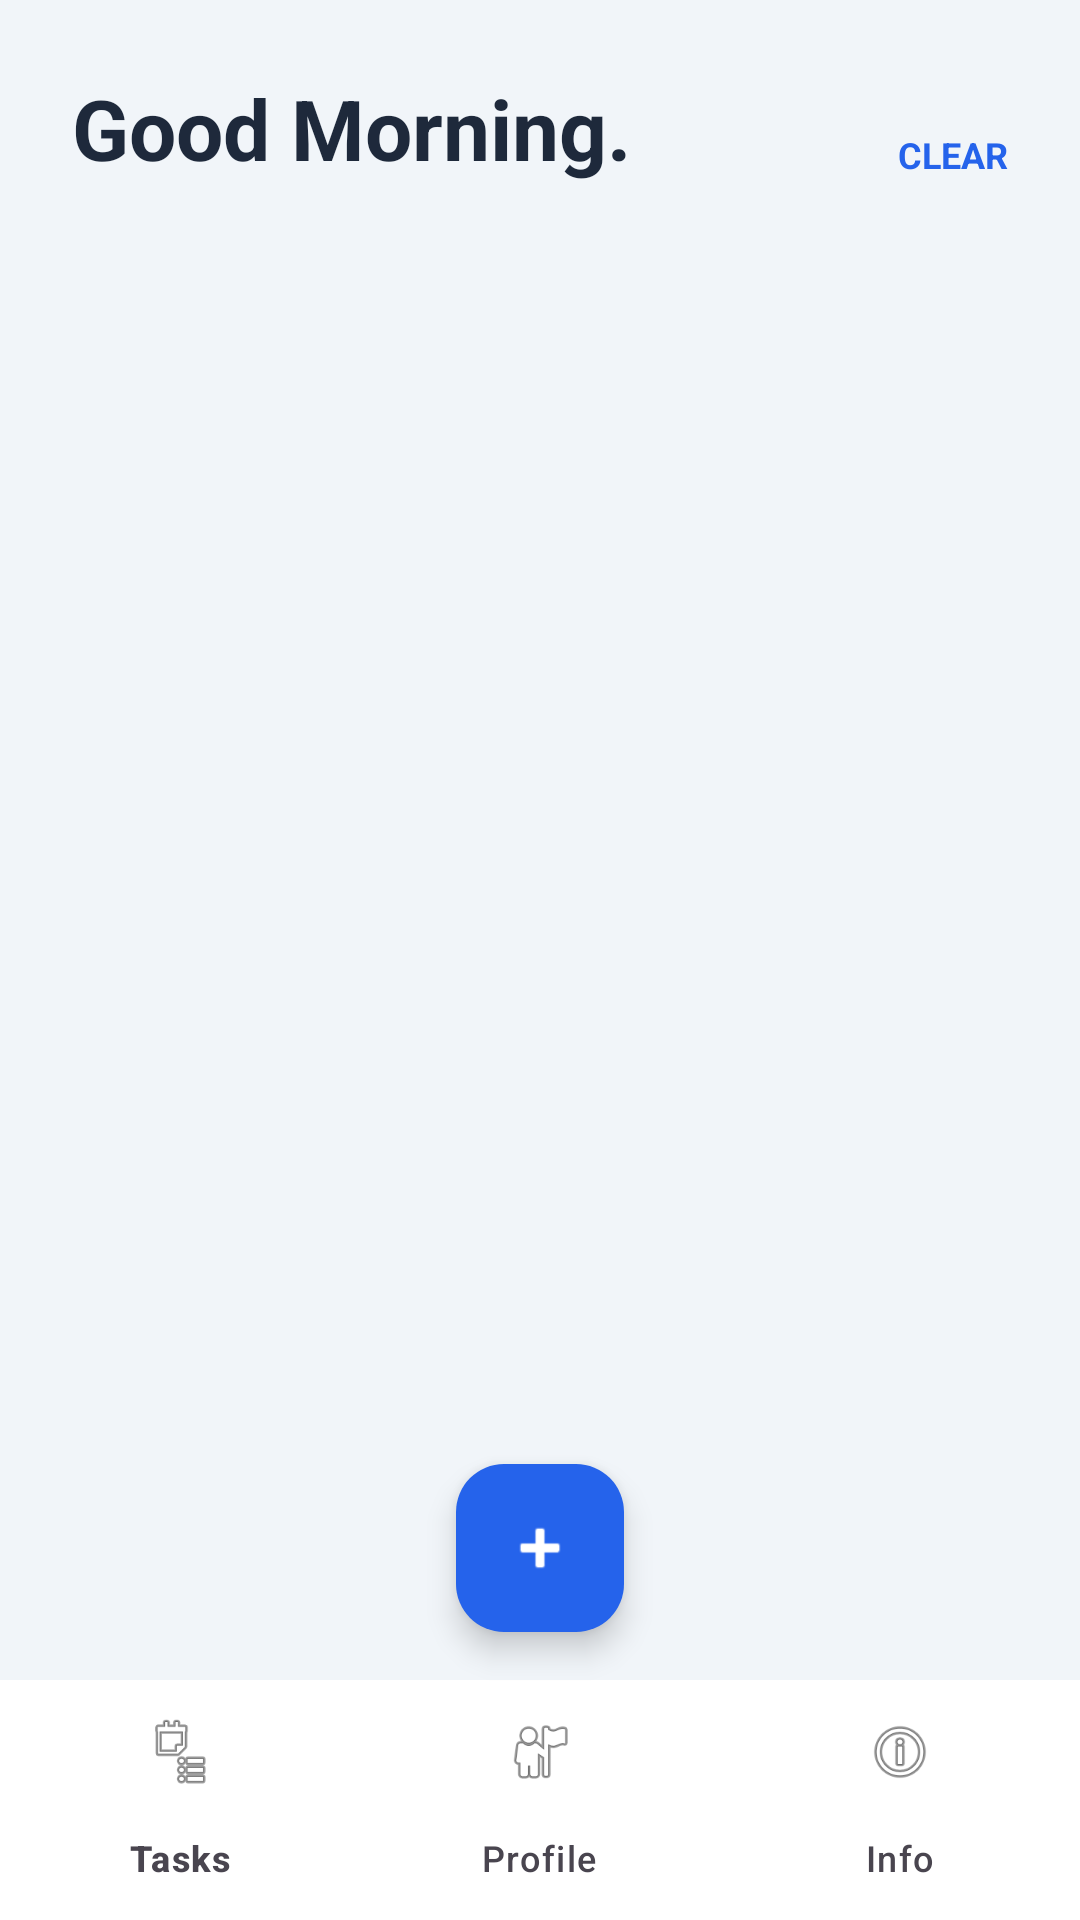

Icon click points for this 1080 × 1920 phone screenshot, format (x,y):
Add Task: (540,1548)
